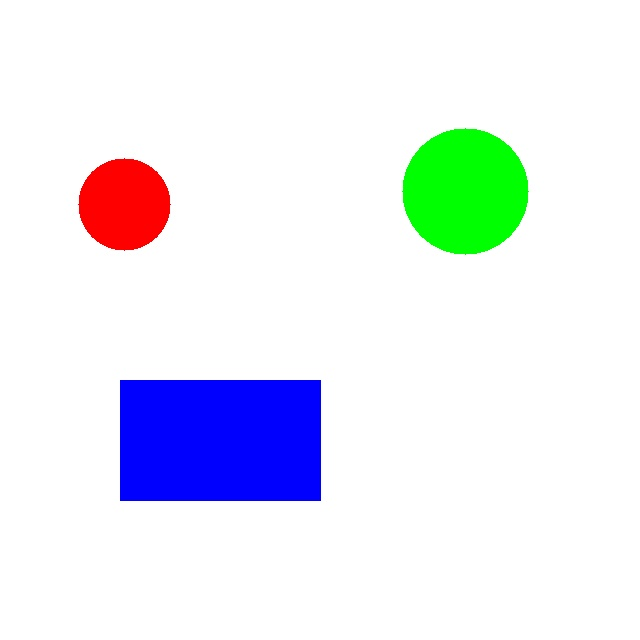cartao: (120, 380, 320, 500)
rosca_externa: (402, 128, 528, 254)
rosca_interna: (78, 158, 170, 250)
